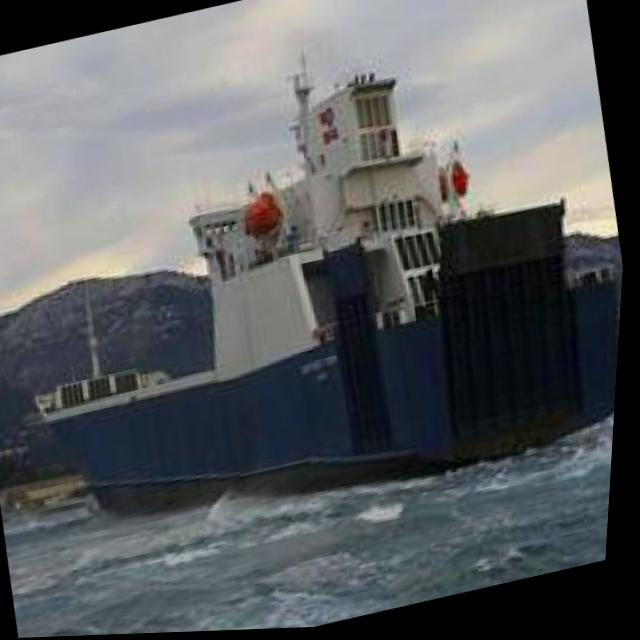ship2: (44, 62, 624, 515)
